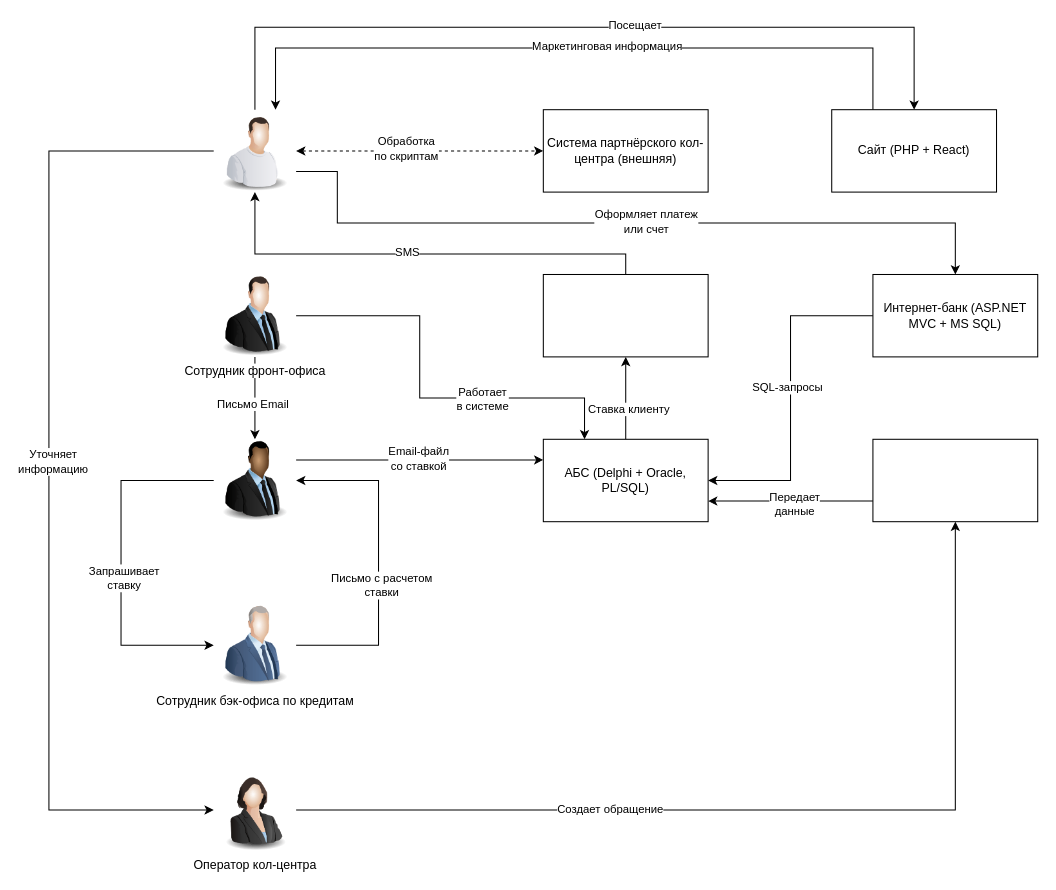
Some shapes in this 1056 by 890 pixel diagram are drawn without their labels. The box of each missing label's shape, as (x1, y1, x2, y2) in pixels:
Клиент: (213, 109, 296, 192)
Система кол-центра (Spring Boot + React, PostgreSQL): (872, 438, 1038, 522)
СМС-шлюз: (542, 273, 708, 357)
Сотрудник бэк-офиса по депозитам: (213, 439, 296, 521)
